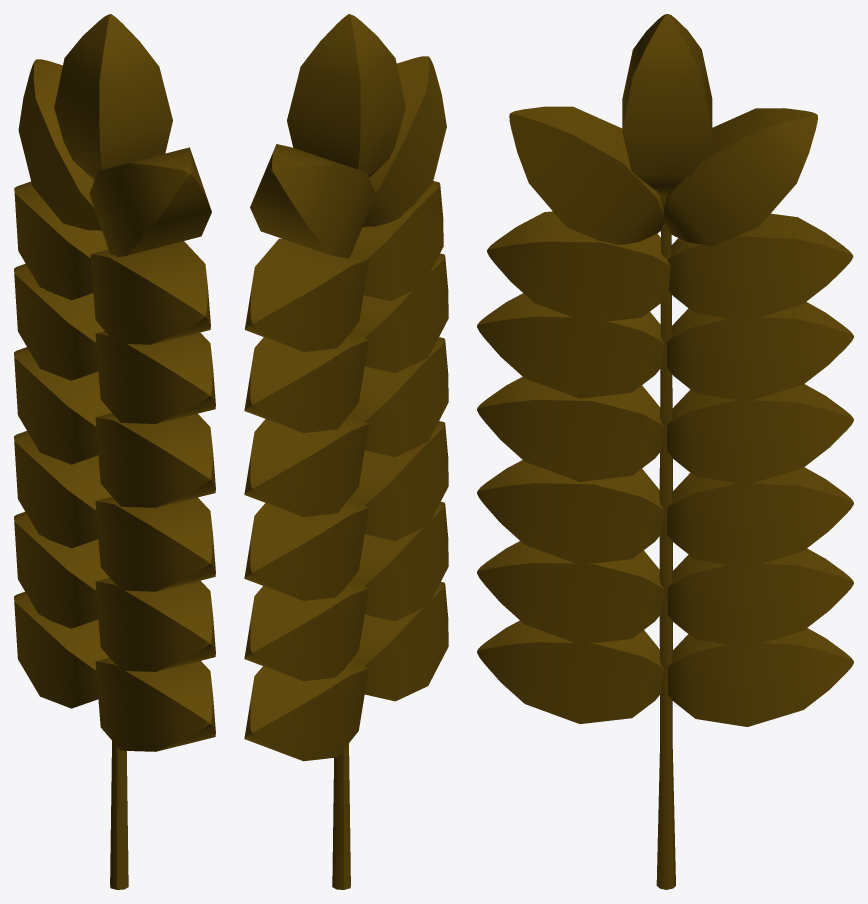
The model's file is Wheat.fbx.
The picture shows the model from 3 angles, left to right: view 1: azimuth 30°, elevation 25°; view 2: azimuth 150°, elevation 25°; view 3: azimuth 270°, elevation 25°; orthographic projection.
Parts seen in each view (by area): view 1: pCube30; view 2: pCube30; view 3: pCube30.
Boxes of the visible parts, box(x1,y1,x2,y2) form: pCube30: box(14, 14, 215, 889); pCube30: box(244, 14, 448, 889); pCube30: box(477, 14, 853, 889).
Size of the model in its own units: 0.7427 by 7.55 by 2.97.
